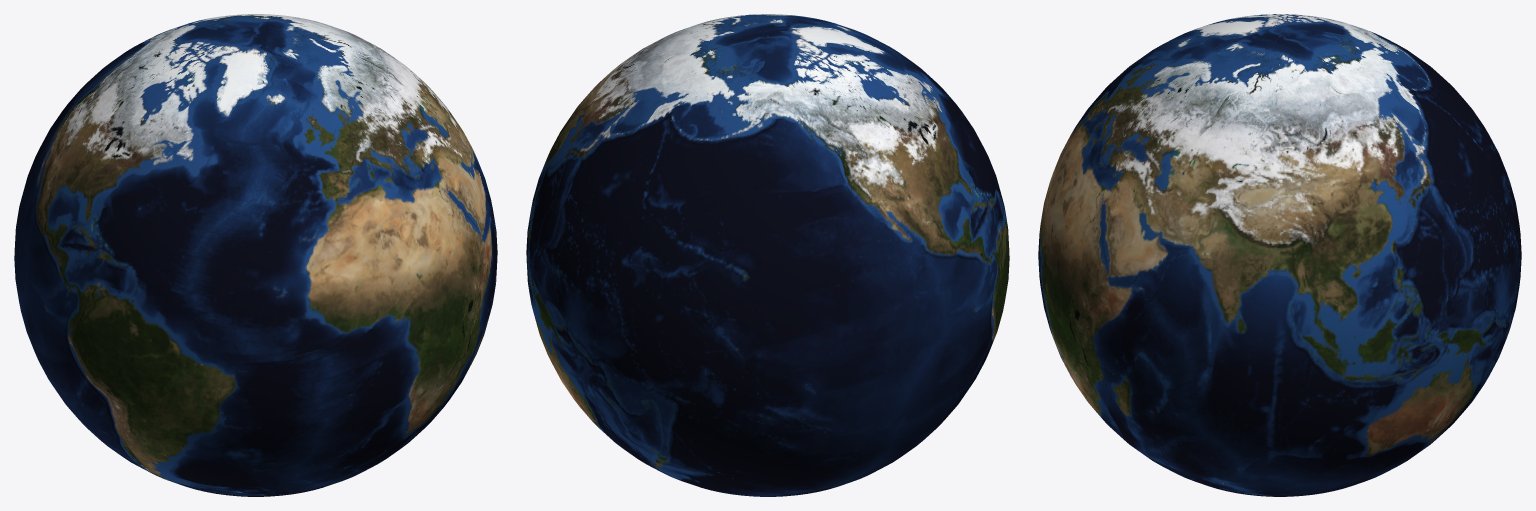
File: earth.obj
3 renders of one model, left to right at view 1: azimuth 30°, elevation 25°; view 2: azimuth 150°, elevation 25°; view 3: azimuth 270°, elevation 25°, orthographic.
Parts seen in each view (by area): view 1: Sphere002; view 2: Sphere002; view 3: Sphere002.
Part boxes in pixels (x1=…): Sphere002: x1=14, y1=14, x2=497, y2=496; Sphere002: x1=526, y1=14, x2=1009, y2=496; Sphere002: x1=1038, y1=14, x2=1521, y2=496.
Size of the model in its own units: 702 by 702 by 702.
Materials: 1 (1 with a texture image).
